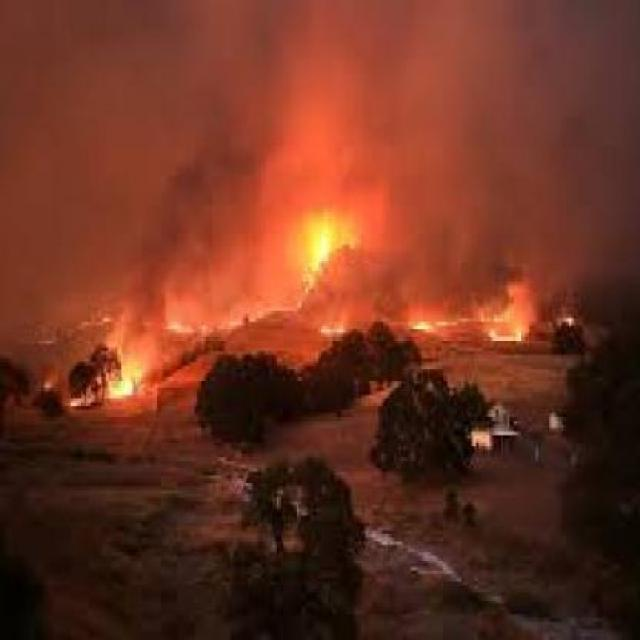Fire: (252, 194, 370, 331), (62, 320, 186, 423)
